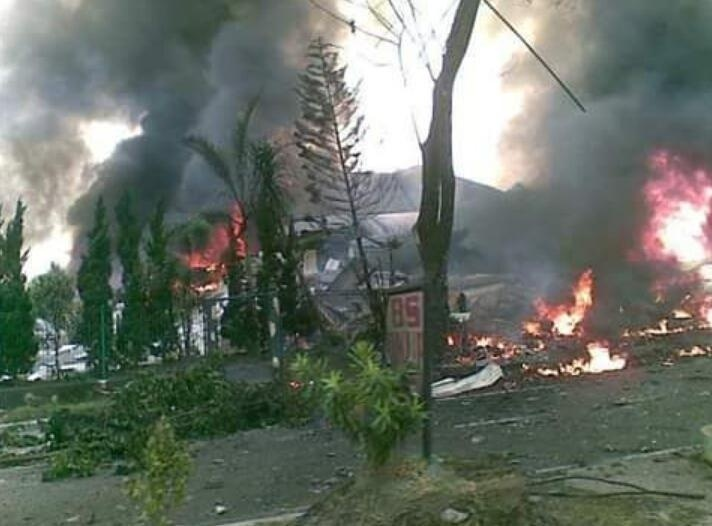fire: (465, 270, 619, 376), (181, 205, 250, 285)
